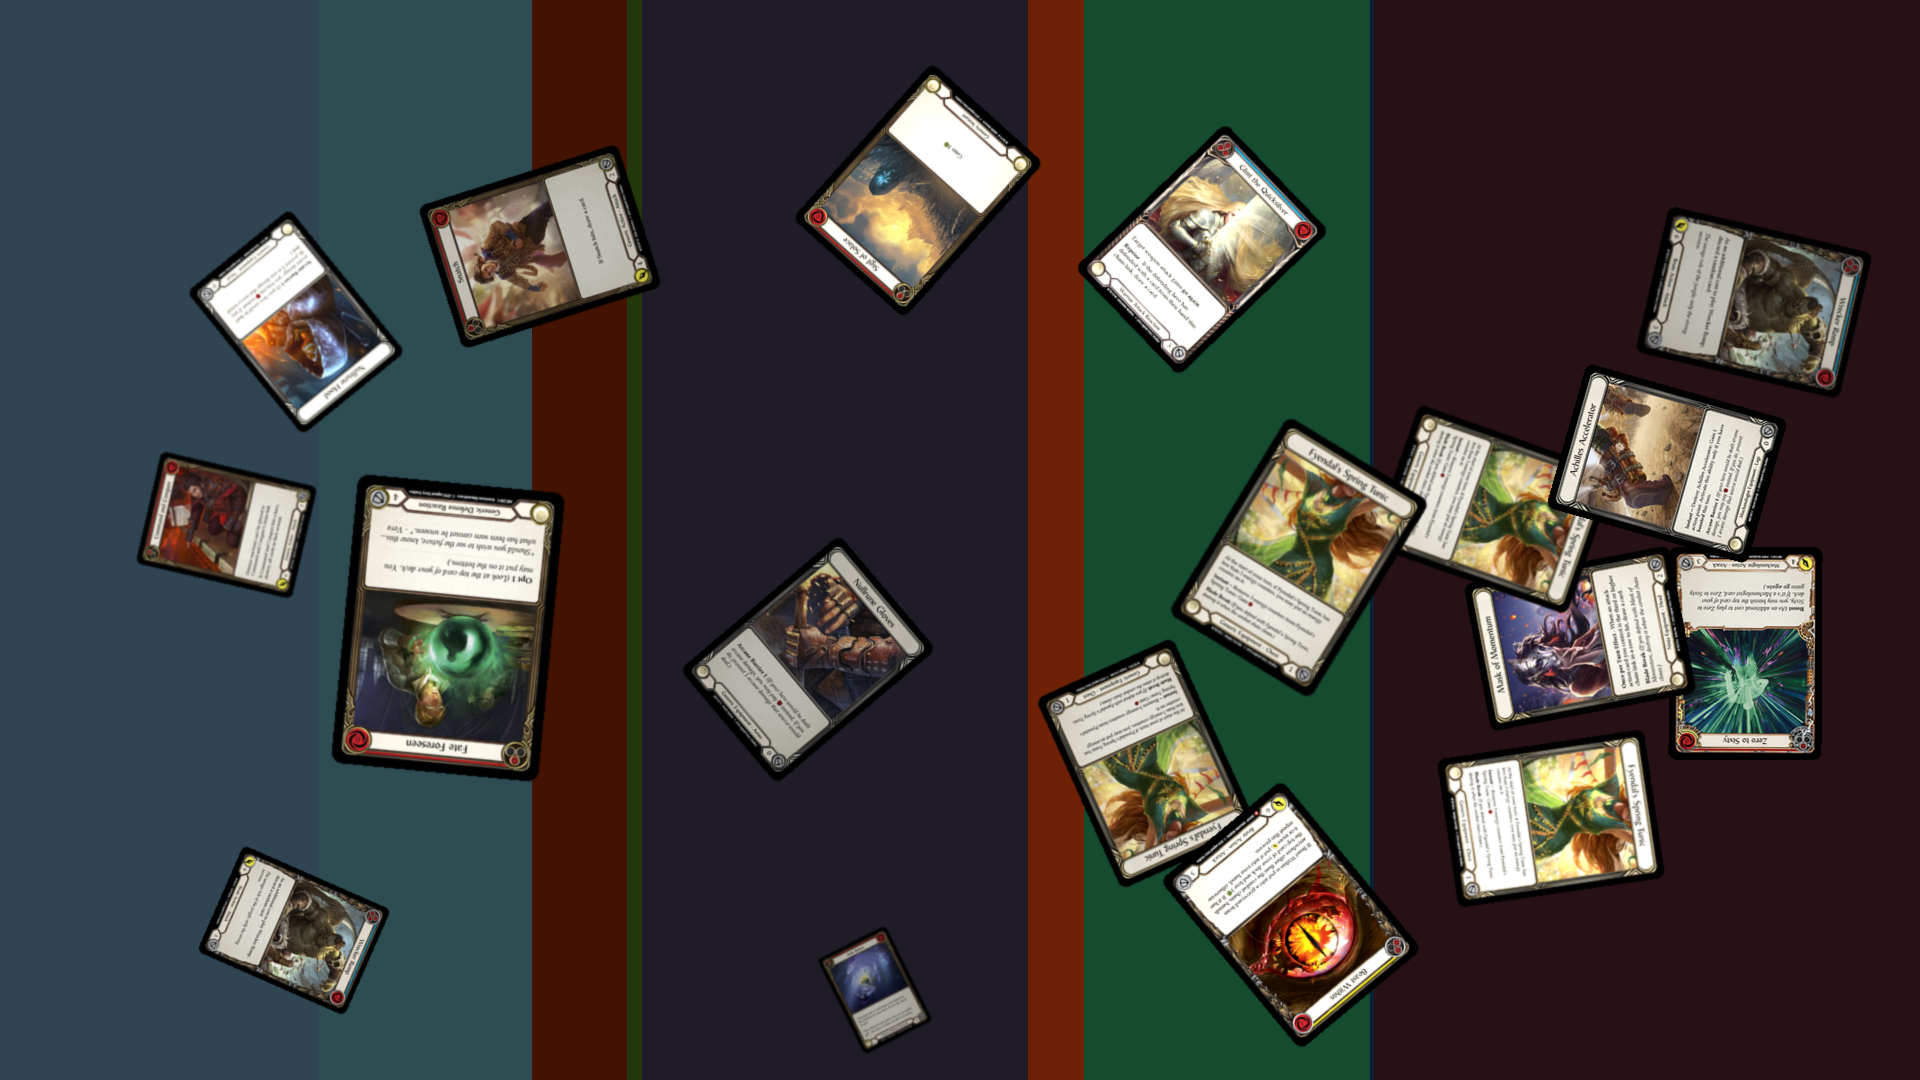Achilles_Accelerator_ARC005: (1545, 363, 1789, 564)
Beast_Within_CRU007: (1159, 779, 1423, 1051)
Command_and_Conquer_ARC159: (135, 450, 318, 600)
Fate_Foreseen_ARC200: (330, 473, 566, 783)
Fyendals_Spring_Tunic_WTR150: (1168, 415, 1429, 700), (1035, 637, 1259, 890), (1369, 404, 1617, 616), (1436, 729, 1665, 909)
Glint_the_Quicksilver_WTR118: (1073, 123, 1331, 377)
Mask_of_Momentum_WTR079: (1462, 545, 1697, 732)
Nullrune_Gloves_ARC157: (679, 534, 938, 785)
Nullrune_Hood_ARC155: (186, 208, 406, 436)
Sigil_of_Solace_WTR173: (793, 62, 1044, 319)
Sink_Below_WTR215: (818, 924, 934, 1055)
Snatch_WTR167: (417, 142, 663, 349)
Wrecker_Romp_WTR031: (1635, 204, 1873, 400), (196, 845, 392, 1015)
Zero_to_Sixty_ARC026: (1668, 546, 1822, 761)
